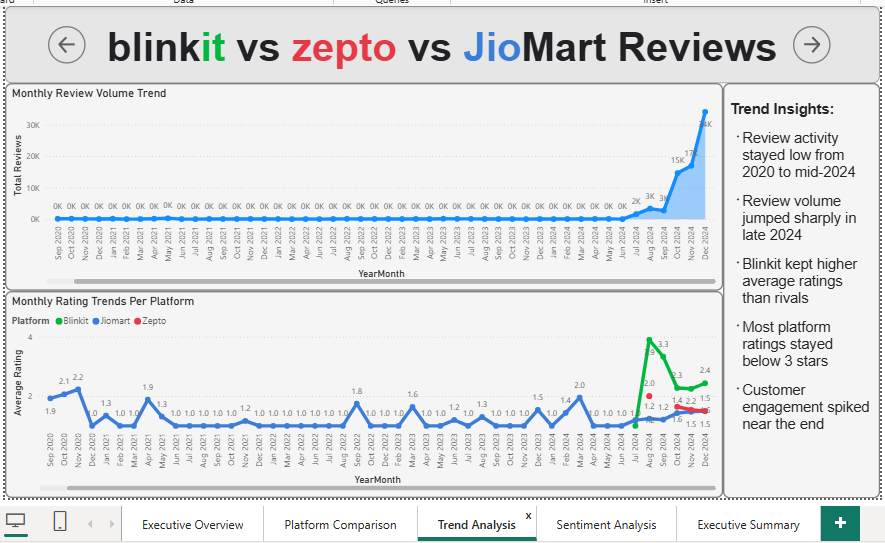

This screenshot's page, from the dashboard's own definition file:
{"tool":"powerbi","page":{"name":"Trend Analysis","canvas":[1280,720],"ordinal":2},"visuals":[{"type":"textbox","box":[0,0,1280,112.7],"z":0},{"type":"lineChart","title":"Monthly Review Volume Trend","fields":{"Category":["Reviews.YearMonth"],"Y":["Table of Measures.Total Reviews"]},"box":[0,112.7,1050.7,304.4],"z":1000},{"type":"lineChart","title":"Monthly Rating Trends Per Platform","fields":{"Category":["Reviews.YearMonth"],"Series":["Platform.Platform"],"Y":["Table of Measures.Average Rating"]},"box":[0,417.1,1050.7,302.9],"z":2000},{"type":"actionButton","box":[1153.1,28.6,55.4,55],"z":3000},{"type":"actionButton","box":[62.6,28.6,55.4,55.4],"z":4000},{"type":"textbox","box":[1050.7,112.7,230,608],"z":5000}]}

Visuals, with their boxes in screenshot pixels (x1, y1, x2, y2):
textbox: bbox=[5, 5, 877, 81]
"Monthly Review Volume Trend" lineChart: bbox=[5, 81, 721, 289]
"Monthly Rating Trends Per Platform" lineChart: bbox=[5, 289, 721, 496]
actionButton: bbox=[791, 24, 829, 62]
actionButton: bbox=[47, 24, 85, 62]
textbox: bbox=[721, 81, 878, 496]
